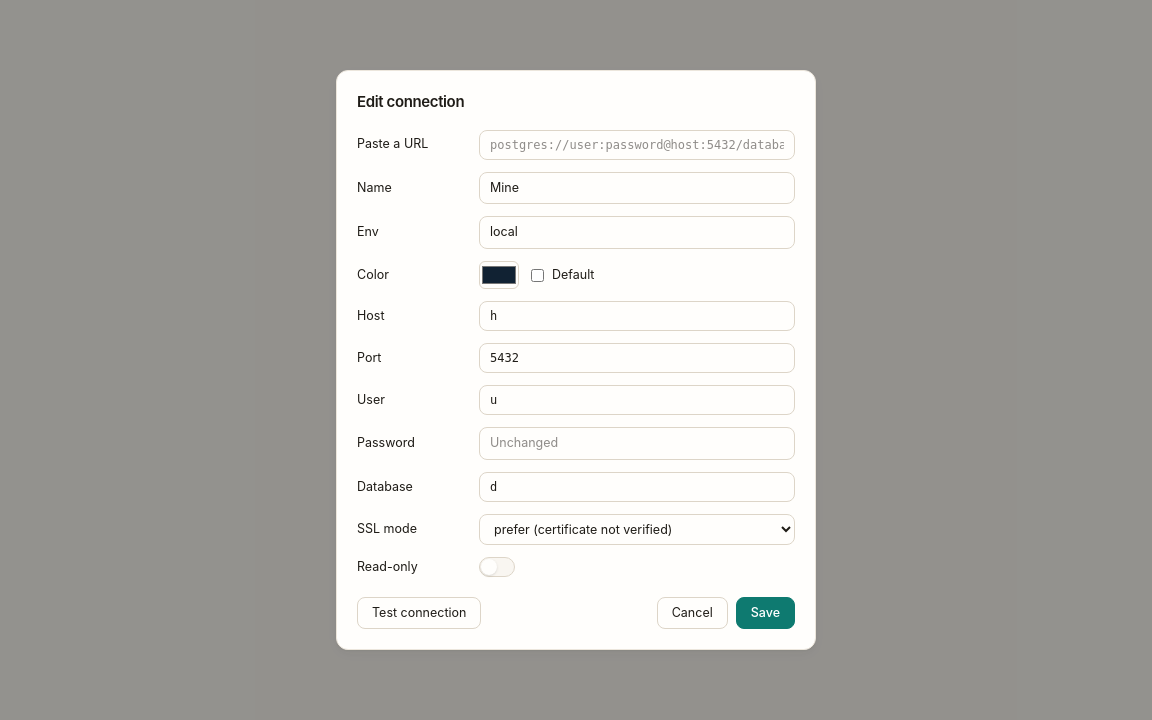
Test: ConnectionDialog › refuses port 0 before saving or testing
Replace the text in the number field with id "conn-port" with "0": (637, 358) [479,343,795,373]
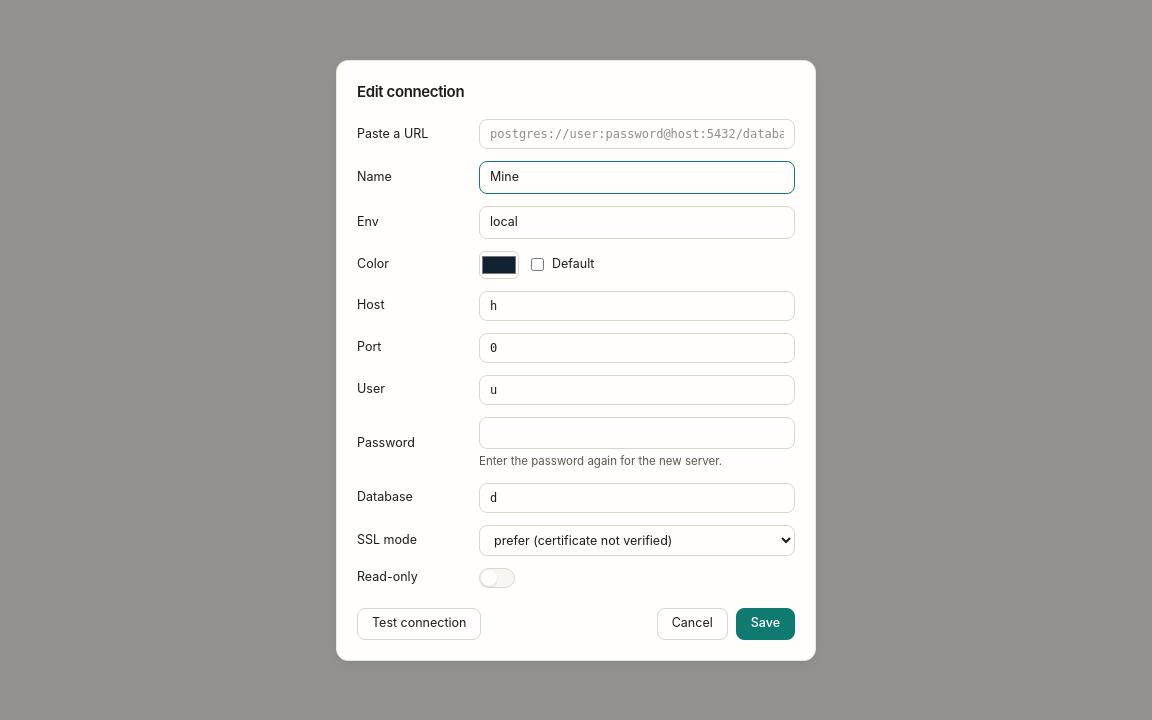
Submit the dialog, box [336,60,816,660]
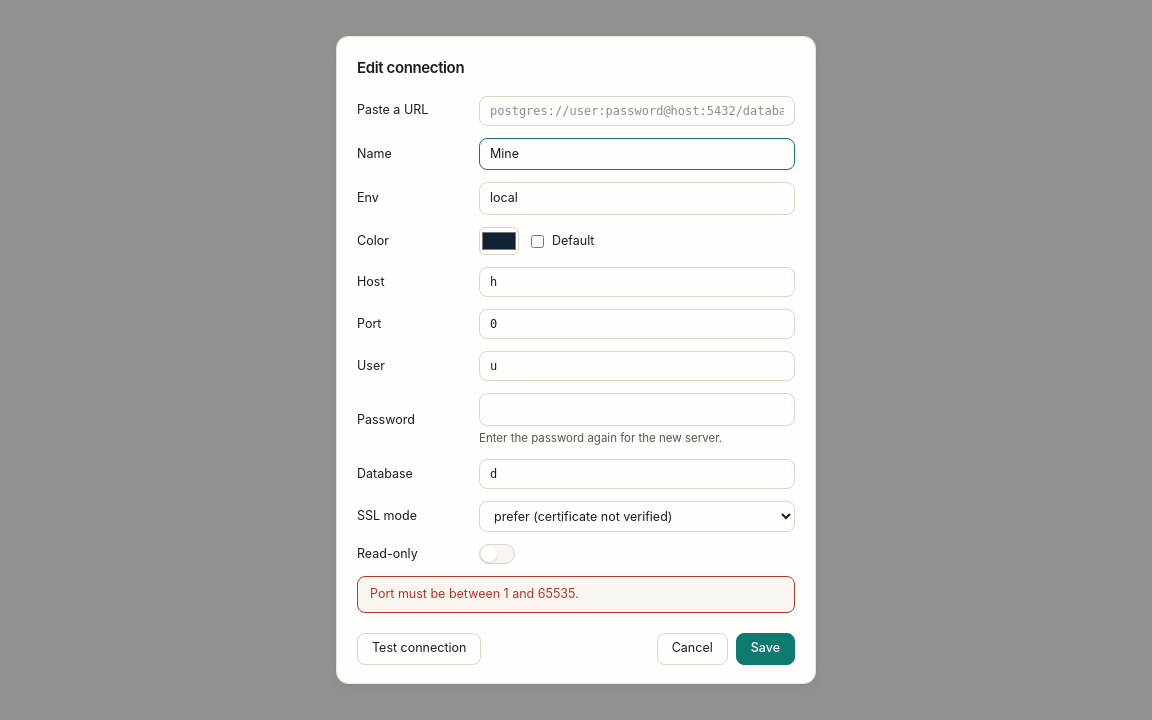
Result: the message with test id "form-error" reads "Port must be between 1 and 65535." at [370,586,579,601]
Click the button "Test connection": click(419, 649) [357,633,481,665]
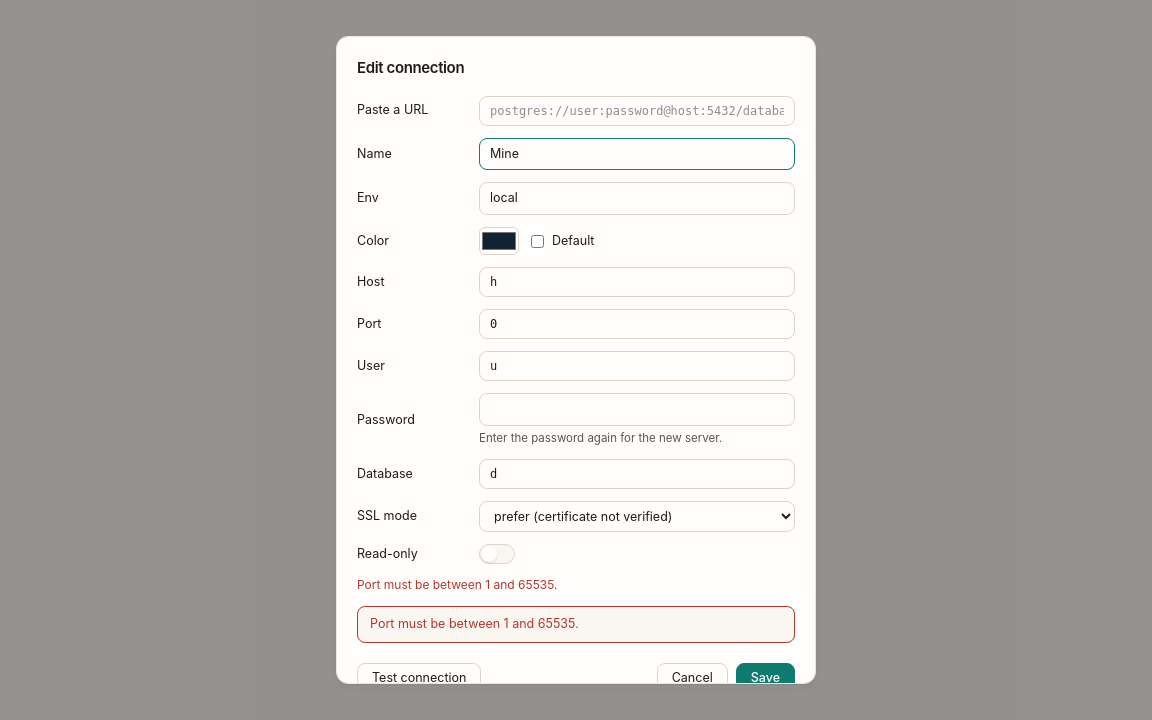
Result: the message with test id "test-result" reads "Port must be between 1 and 65535." at [357,577,557,592]
